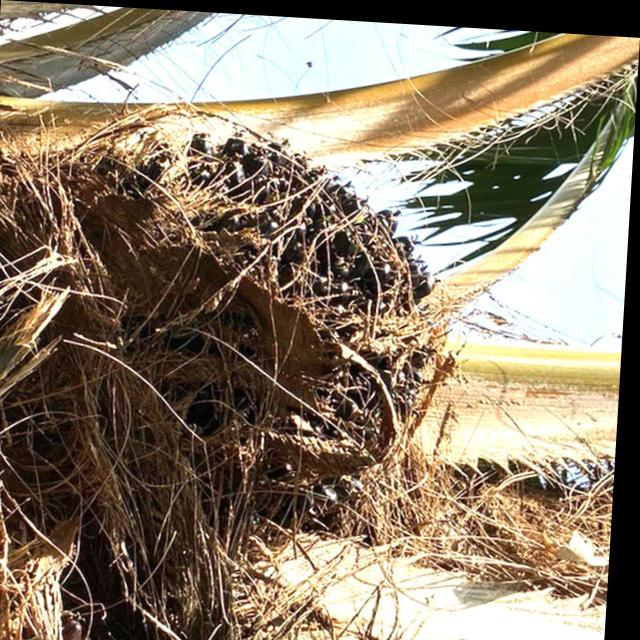unripe: (165, 146, 444, 451)
